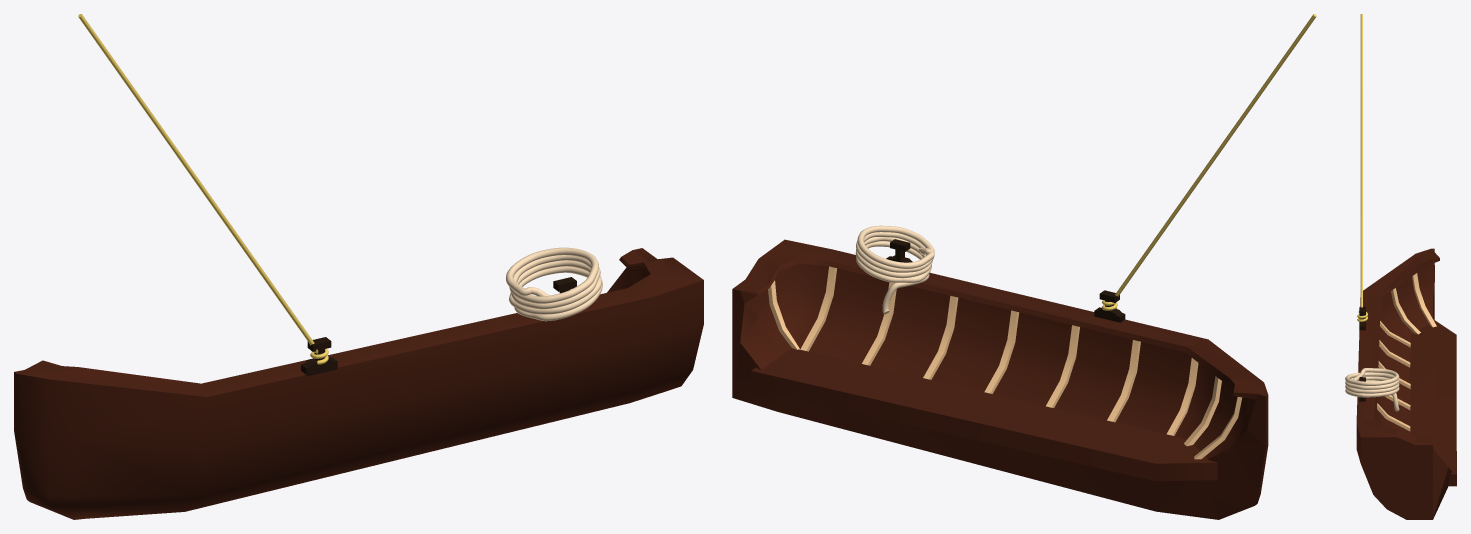
Rendered from largeboat.FBX.
3 views of the same model, side by side, from view 1: azimuth 30°, elevation 25°; view 2: azimuth 150°, elevation 25°; view 3: azimuth 270°, elevation 25° (orthographic). The views are drawn at different scales.
Visible parts, largest first — view 1: hull003; view 2: hull003; view 3: hull003.
Boxes of the visible parts, x1,y1,x2,y2 form: hull003: [14, 14, 703, 519]; hull003: [732, 14, 1316, 519]; hull003: [1345, 14, 1456, 519].
Size of the model in its own units: 145 by 38.02 by 126.
